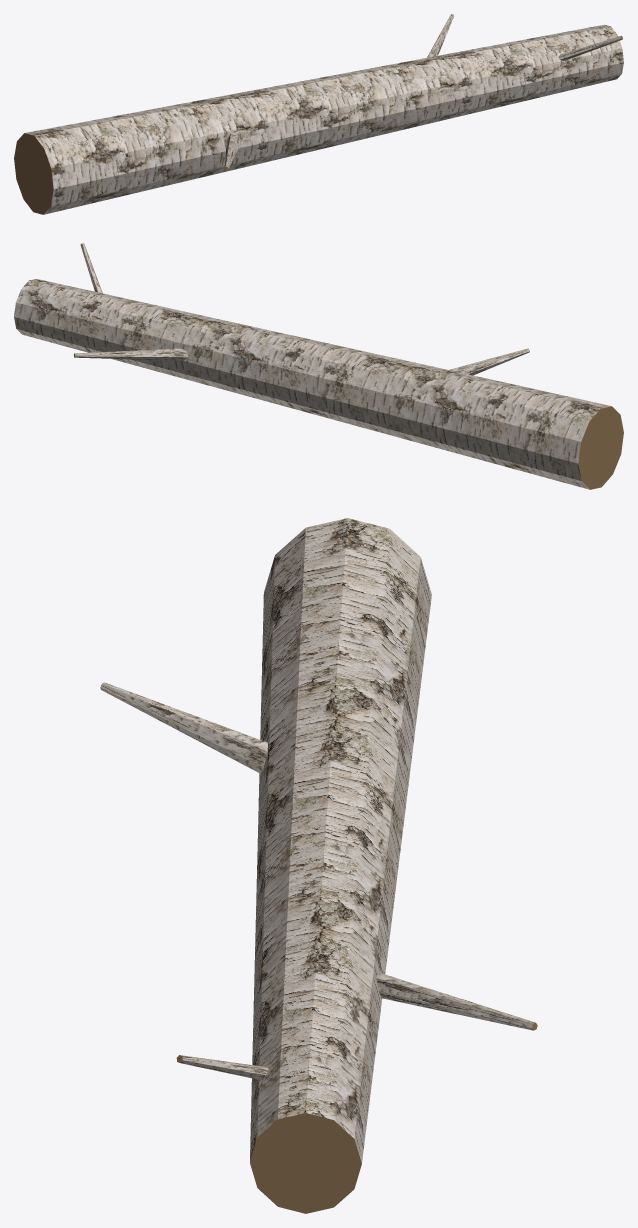
The model's file is fallen_birch.gltf.
3 views of the same model, one above another, from view 1: azimuth 30°, elevation 25°; view 2: azimuth 150°, elevation 25°; view 3: azimuth 270°, elevation 25° (orthographic). The views are drawn at different scales.
Size of the model in its own units: 5.62 by 0.7199 by 1.87.
Materials: 2 (1 with a texture image).
